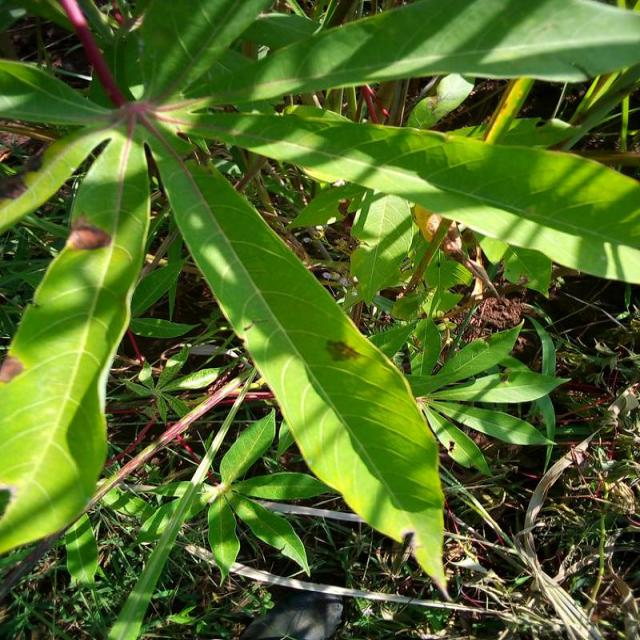cassava leaf: (1, 1, 638, 603), (144, 118, 451, 600), (162, 102, 639, 287), (0, 125, 151, 554)
